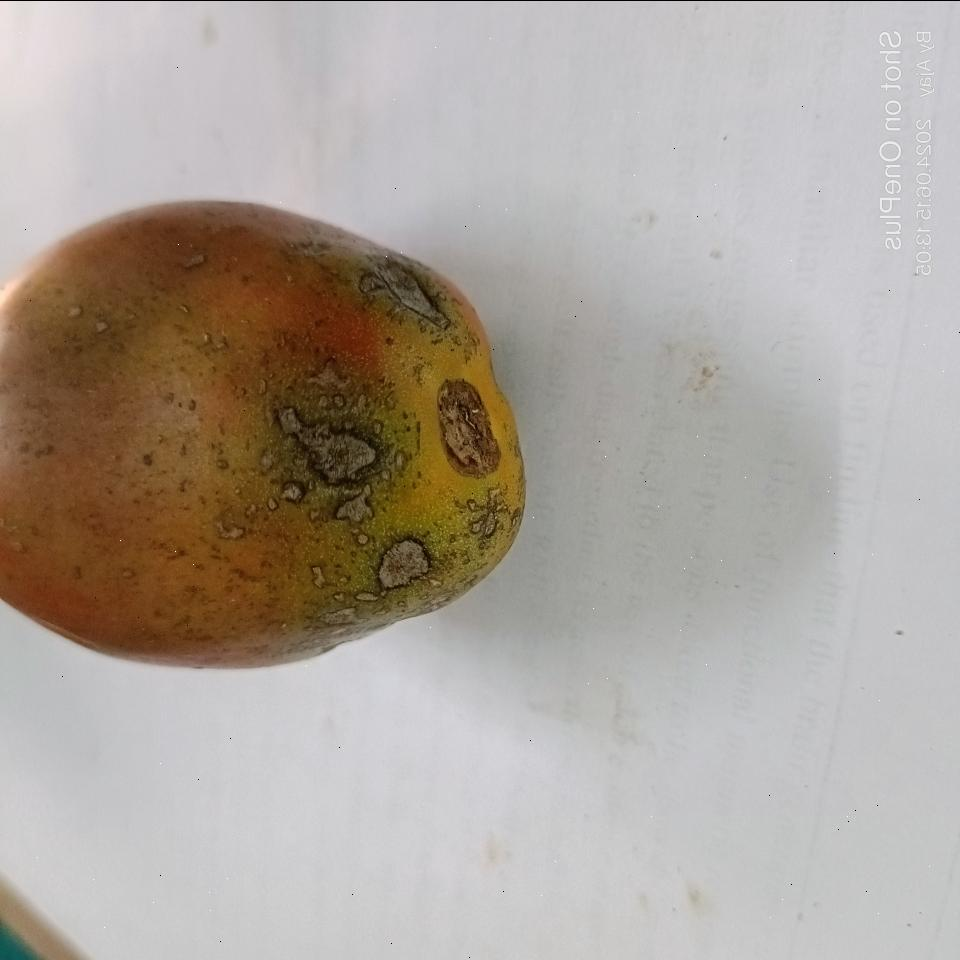Bacterial_Spot: (276, 369, 390, 516), (353, 261, 456, 338), (434, 375, 508, 476), (374, 532, 438, 594)
